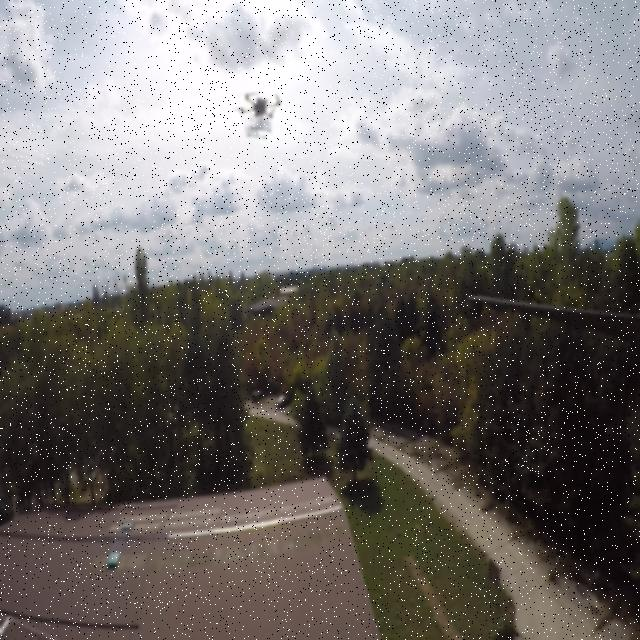UAV: (227, 84, 289, 143)
